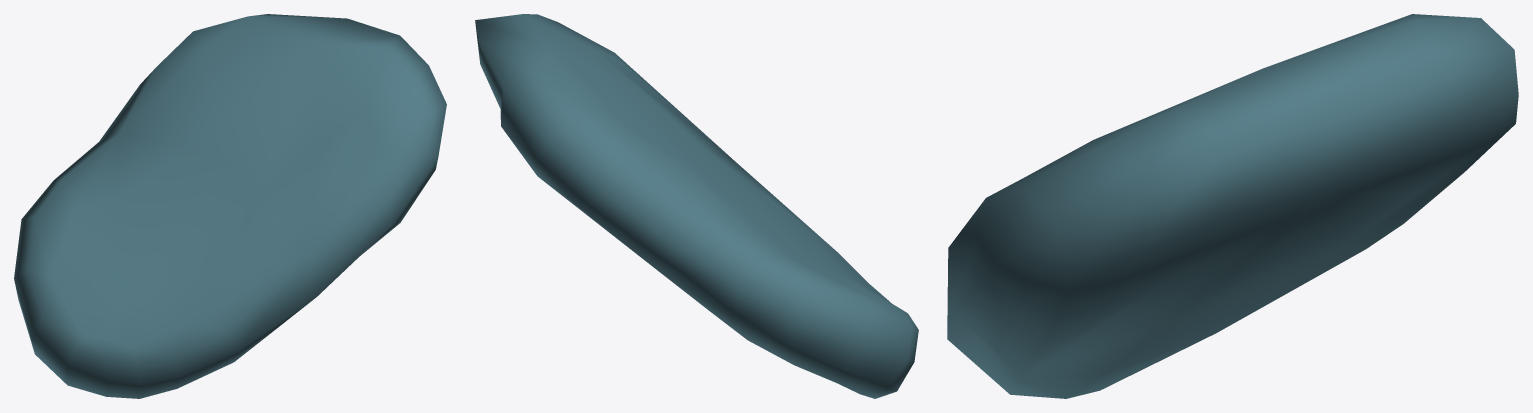
File: Flexor_digitorum_longus_4th_distal_phalanx_right.glb
3 renders of one model, left to right at view 1: azimuth 30°, elevation 25°; view 2: azimuth 150°, elevation 25°; view 3: azimuth 270°, elevation 25°, orthographic. The views are drawn at different scales.
Parts seen in each view (by area): view 1: Flexor_digitorum_longus_on_4th_distal_phalanx.r_Generated_Me; view 2: Flexor_digitorum_longus_on_4th_distal_phalanx.r_Generated_Me; view 3: Flexor_digitorum_longus_on_4th_distal_phalanx.r_Generated_Me.
Boxes of the visible parts, <box> form: Flexor_digitorum_longus_on_4th_distal_phalanx.r_Generated_Me: <box>14,14,446,398</box>; Flexor_digitorum_longus_on_4th_distal_phalanx.r_Generated_Me: <box>475,14,918,398</box>; Flexor_digitorum_longus_on_4th_distal_phalanx.r_Generated_Me: <box>947,14,1518,398</box>.
Bounding box in the file's own units: 0.00254 × 0.00176 × 0.00165.
